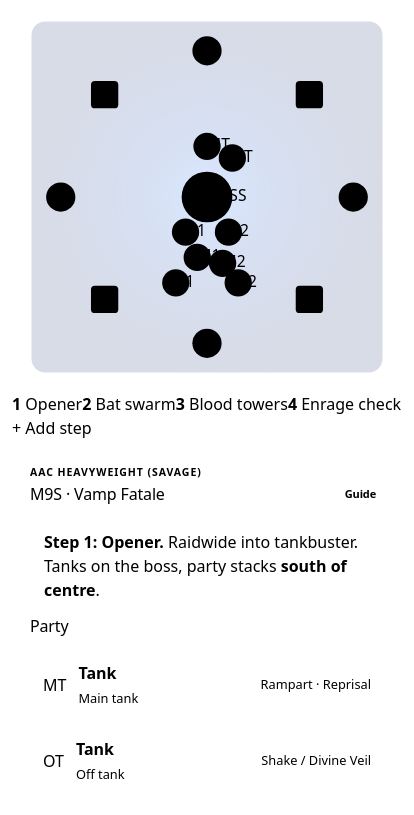
RaidPlansView › adds a step copied from the current one
(page scrolled)
Click the button "3 Blood towers": (232, 404) [176, 392, 288, 416]
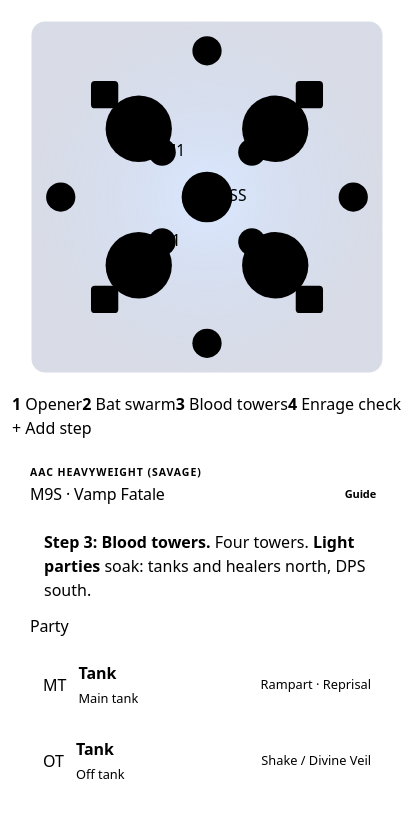
Click the button "+ Add step": (52, 428) [12, 416, 92, 440]
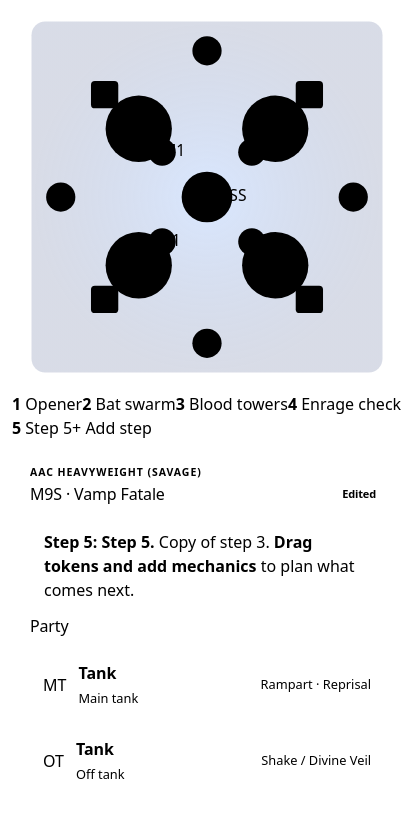
Expected: the text "Copy of step 3." is shown, [159, 531, 274, 553]
